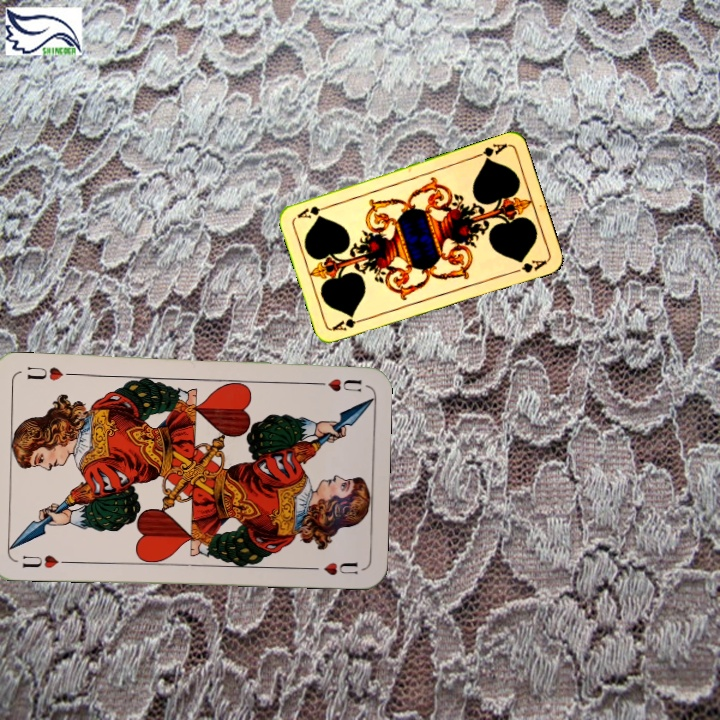GA: (471, 139, 510, 164), (329, 313, 369, 333)
HU: (307, 374, 364, 395), (18, 551, 71, 571)
